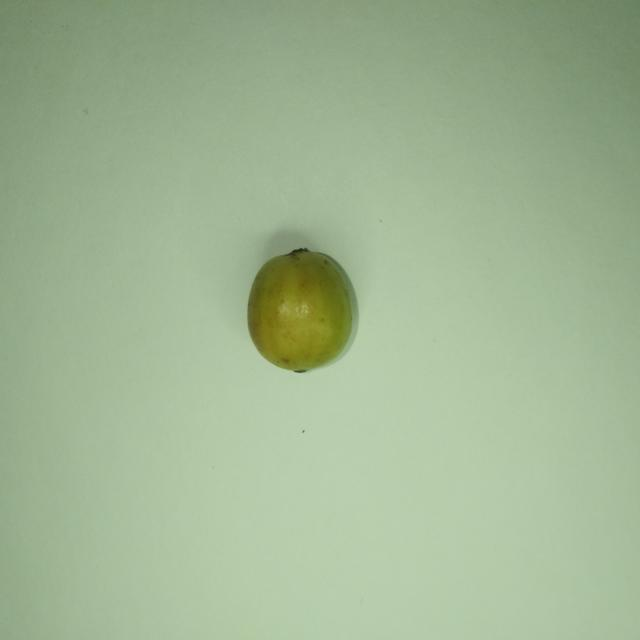Sano: (248, 248, 356, 372)
